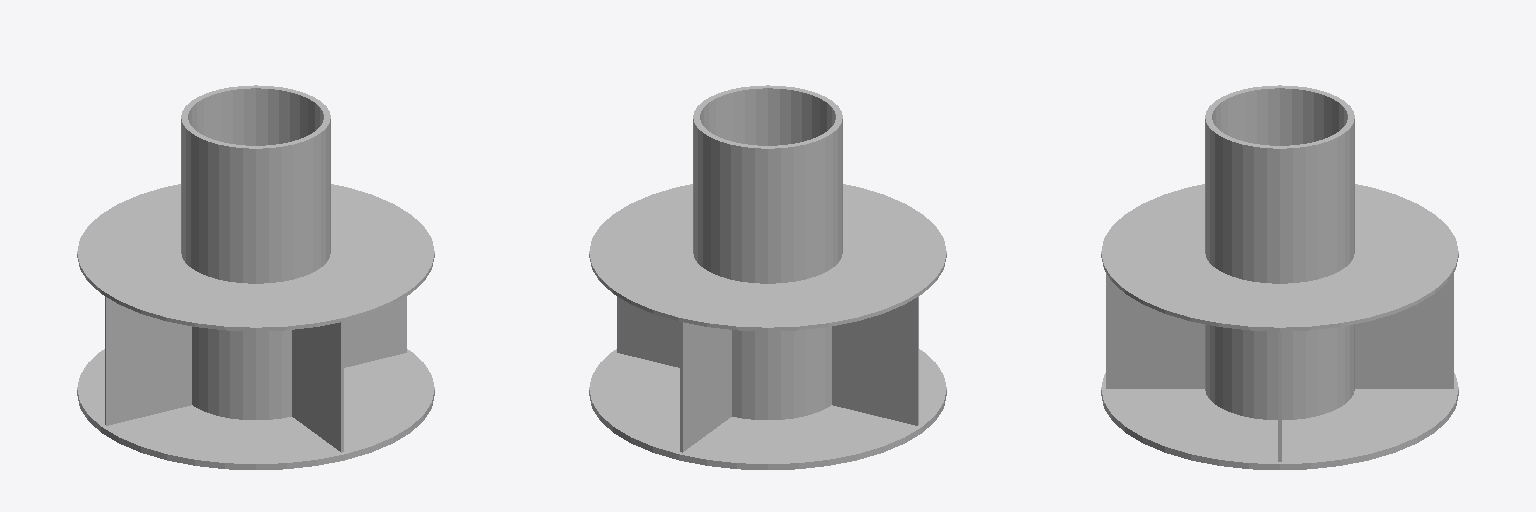
Rendered from CircularPlatform.obj.
3 renders of one model, left to right at view 1: azimuth 30°, elevation 25°; view 2: azimuth 150°, elevation 25°; view 3: azimuth 270°, elevation 25°, orthographic.
Parts seen in each view (by area): view 1: CenterBucket_f0, CenterCylinderClapboard_f0, BottomCylinder_f7_7, clapboard02_f0, clapboard01_f0; view 2: CenterBucket_f0, CenterCylinderClapboard_f0, BottomCylinder_f7_7, clapboard02_f0, clapboard01_f0; view 3: CenterBucket_f0, CenterCylinderClapboard_f0, BottomCylinder_f7_7, clapboard01_f0.
Part boxes in pixels (x1,y1,x2,y2): CenterBucket_f0: (181,85,330,419); CenterCylinderClapboard_f0: (77,184,434,331); BottomCylinder_f7_7: (77,349,434,469); clapboard02_f0: (105,296,406,425); clapboard01_f0: (292,322,343,452); CenterBucket_f0: (693,85,842,419); CenterCylinderClapboard_f0: (589,184,946,331); BottomCylinder_f7_7: (589,349,946,469); clapboard02_f0: (617,296,918,425); clapboard01_f0: (680,322,731,452); CenterBucket_f0: (1205,85,1354,419); CenterCylinderClapboard_f0: (1101,184,1458,331); BottomCylinder_f7_7: (1101,373,1458,469); clapboard01_f0: (1106,273,1453,388).
Size of the model in its own units: 210 by 180 by 210.